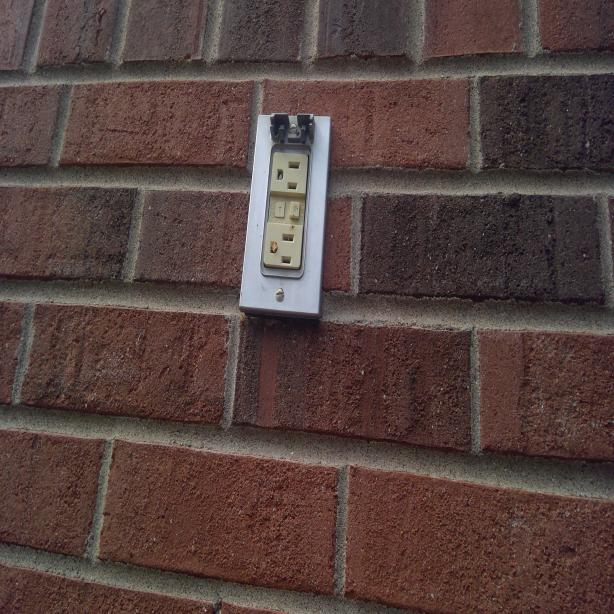typeb: (266, 218, 301, 270), (271, 150, 306, 197)
